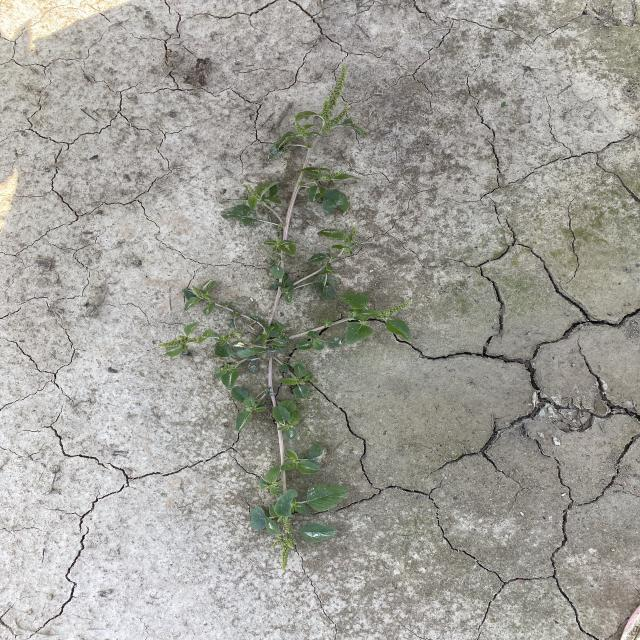PalmerAmaranth: (156, 62, 418, 573)
